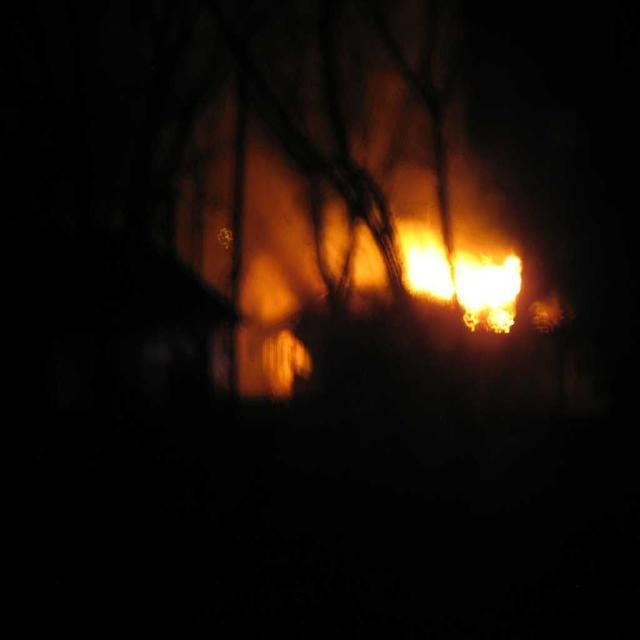Fire: (408, 220, 536, 346)
